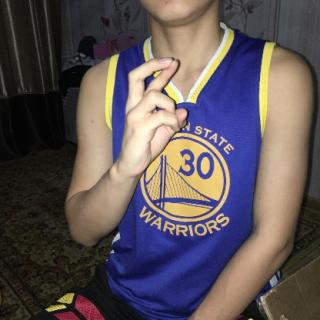ZAY: (116, 54, 190, 185)
